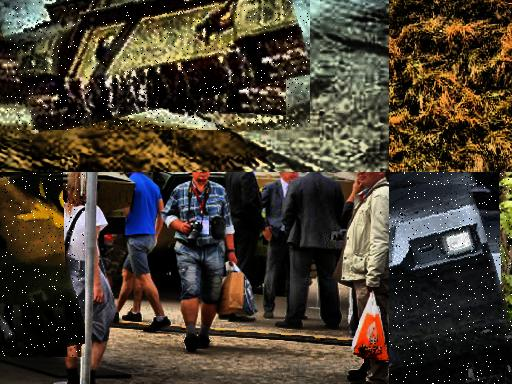tanks: (9, 1, 310, 131), (390, 178, 512, 384), (1, 175, 86, 358), (149, 173, 189, 196), (213, 173, 229, 181)
